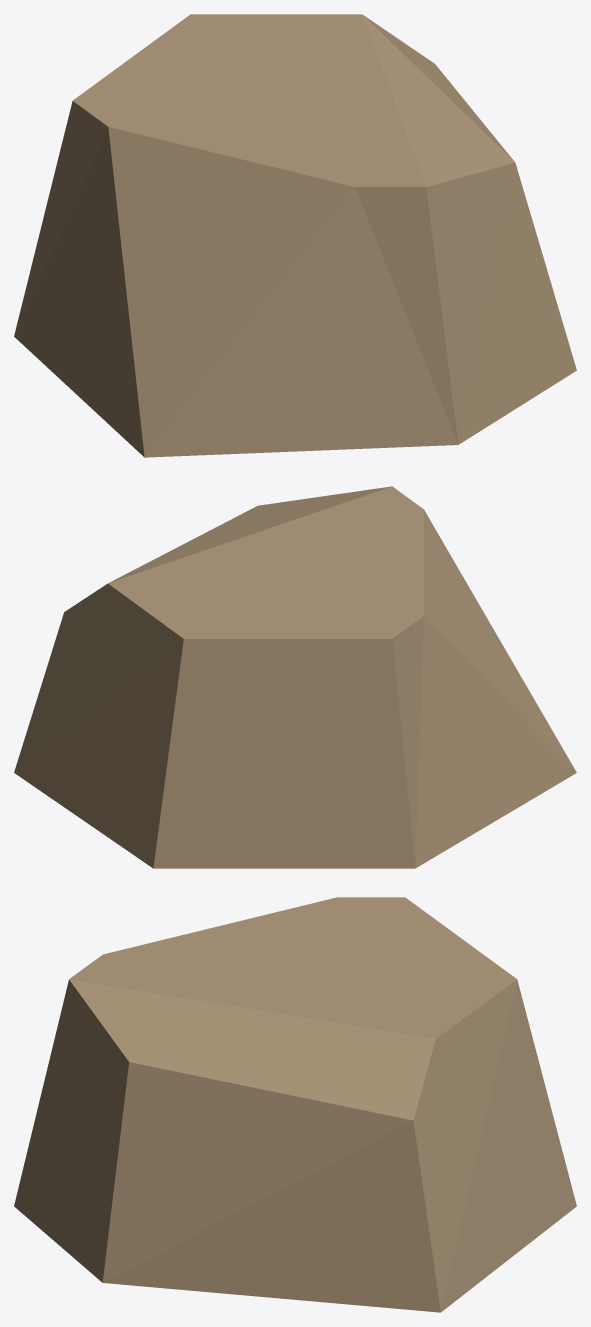
File: TB_D_Env_RockE_B.FBX
The picture shows the model from 3 angles, top to bottom: view 1: azimuth 30°, elevation 25°; view 2: azimuth 150°, elevation 25°; view 3: azimuth 270°, elevation 25°; orthographic projection. The views are drawn at different scales.
Parts seen in each view (by area): view 1: TB_D_Env_RockE_B; view 2: TB_D_Env_RockE_B; view 3: TB_D_Env_RockE_B.
Part boxes in pixels (x1,y1,x2,y2): TB_D_Env_RockE_B: [14, 14, 576, 457]; TB_D_Env_RockE_B: [14, 486, 576, 868]; TB_D_Env_RockE_B: [14, 897, 576, 1312].
Bounding box in the file's own units: 0.9787 × 0.465 × 1.05.
